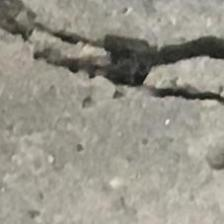Crack: (5, 2, 224, 121)
